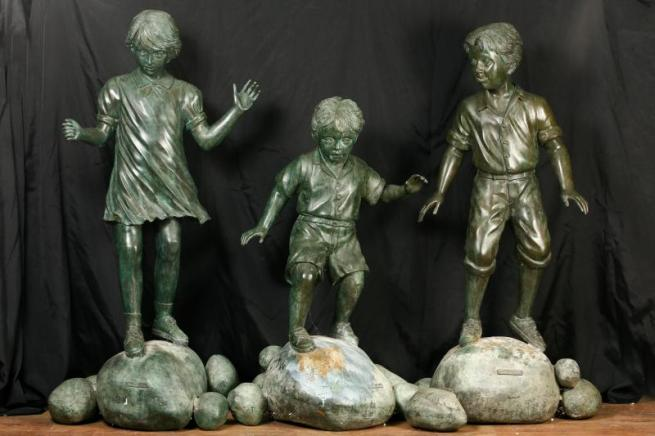person-like: (59, 6, 264, 359), (412, 18, 593, 355), (236, 91, 431, 357)
